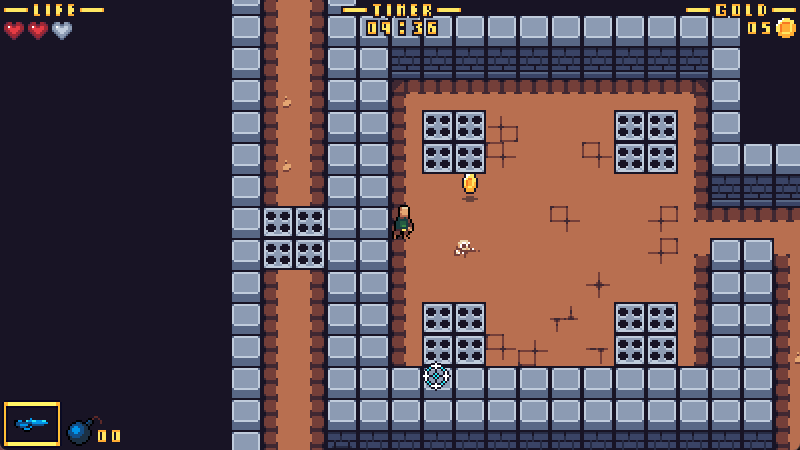aim: (420, 359, 450, 390), (460, 171, 479, 195)
player: (390, 205, 416, 242)
trap_off: (615, 110, 676, 171), (423, 110, 484, 171), (615, 304, 676, 365), (423, 303, 484, 364), (262, 207, 323, 268)
